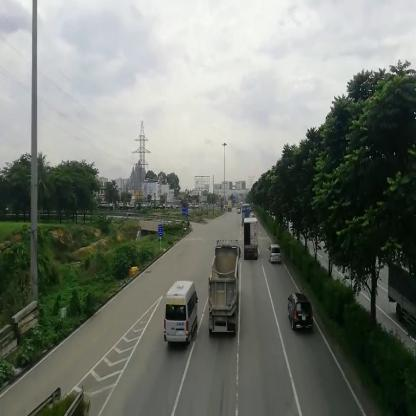car: (167, 282, 198, 343), (290, 293, 313, 332), (270, 244, 283, 265)
container: (245, 220, 258, 262), (244, 205, 252, 219)
truck: (212, 241, 243, 334)
